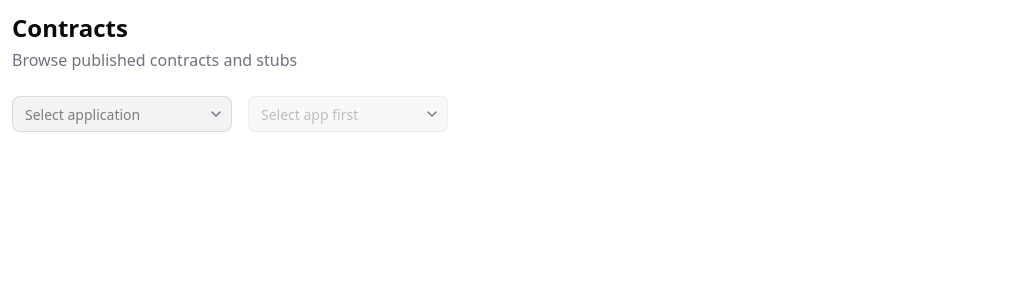
Test: ContractsPage › should handle empty contracts list
This screenshot has width=1036, height=299.
Click the dropdown with placeholder "Select application" at (122, 114), box 12,96 -> 232,132
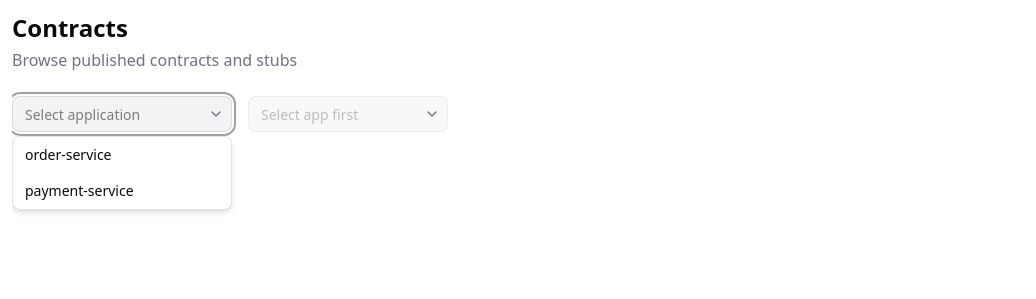
Check: the option "order-service" is shown
Click the option "order-service" at (68, 154), box 25,145 -> 112,164
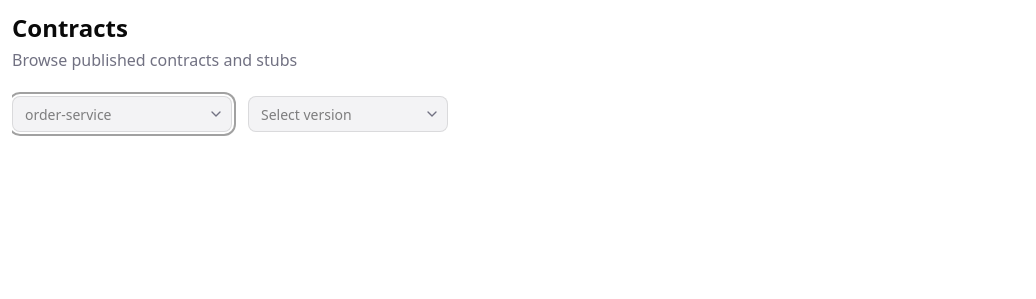
Check: the dropdown with placeholder "Select version" is enabled
Click the dropdown with placeholder "Select version" at (348, 114), box 248,96 -> 448,132
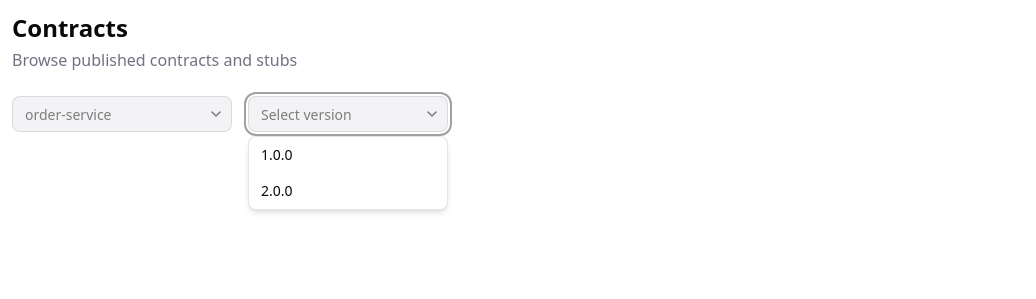
Check: the option "1.0.0" is shown
Click the option "1.0.0" at (277, 154), box 261,145 -> 292,164
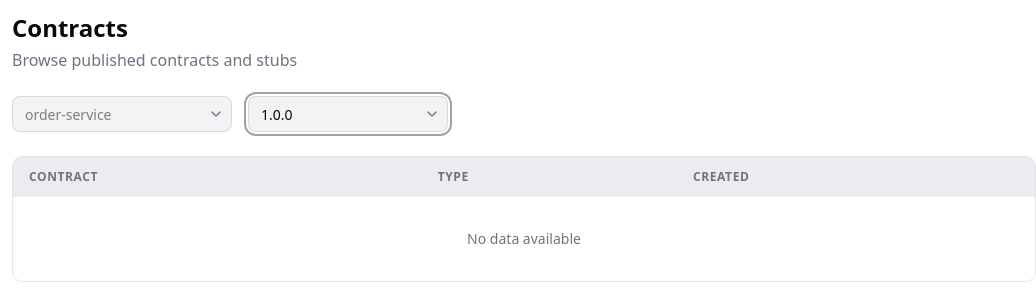
Check: the text "No data available" is shown, box 13,197 -> 1035,281
